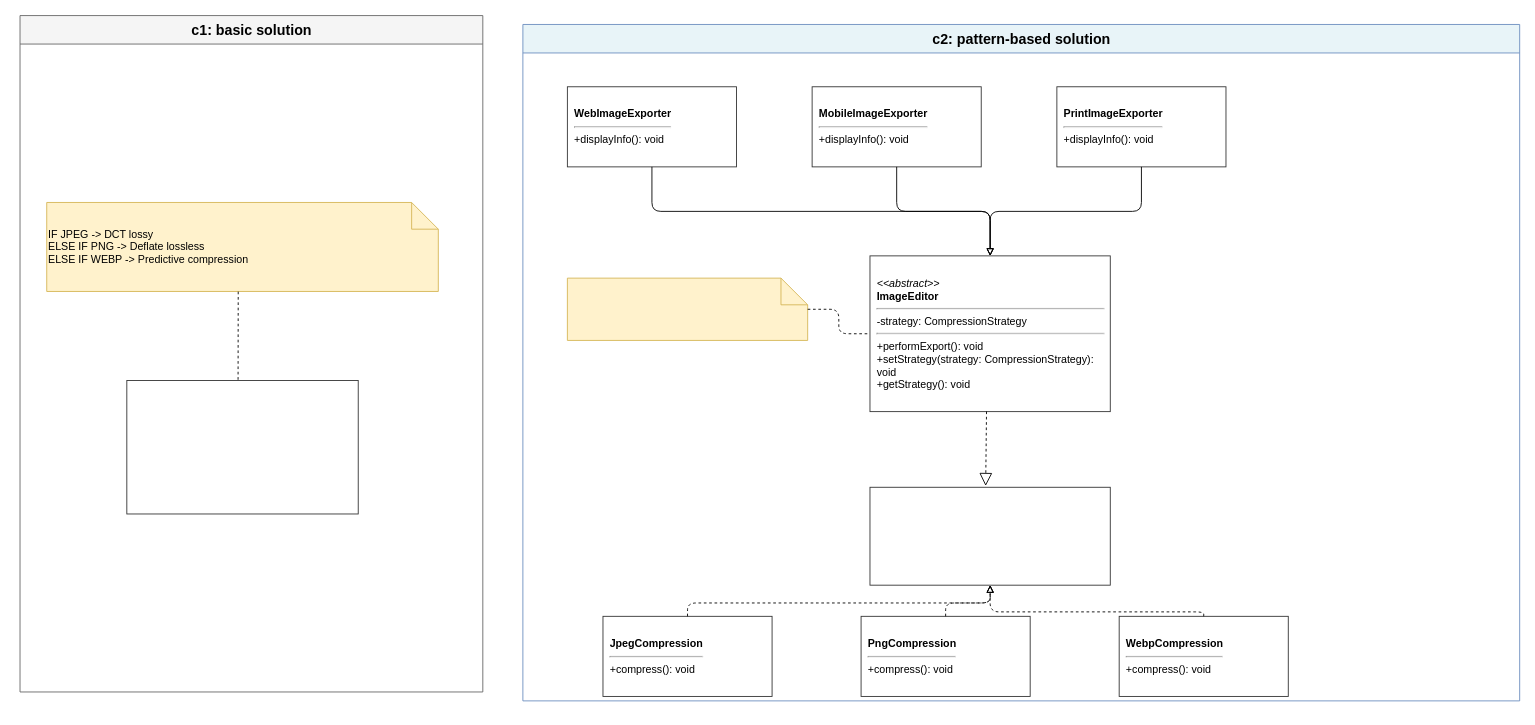
The diagram is 1535 pixels wide and 725 high, and some of its shapes have lost their labels. The shapes that lost their labels are listed below. From the top down, each one's centre as x and y in pixels, then its label:
point (687, 308): performExport() calls strategy.compress()
point (242, 447): ImageExporter -format: String +setFormat(format: String): void +export(): void
point (989, 535): <<interface>> CompressionStrategy +compress(): void
